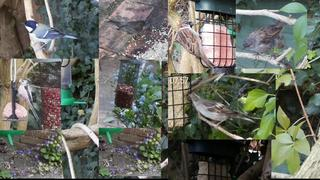blackbird: (106, 20, 148, 43)
dunnock: (241, 20, 287, 61)
great tit: (20, 20, 79, 53)
long tailed tit: (16, 79, 41, 125)
sparrow: (188, 92, 256, 130), (177, 20, 216, 70)
